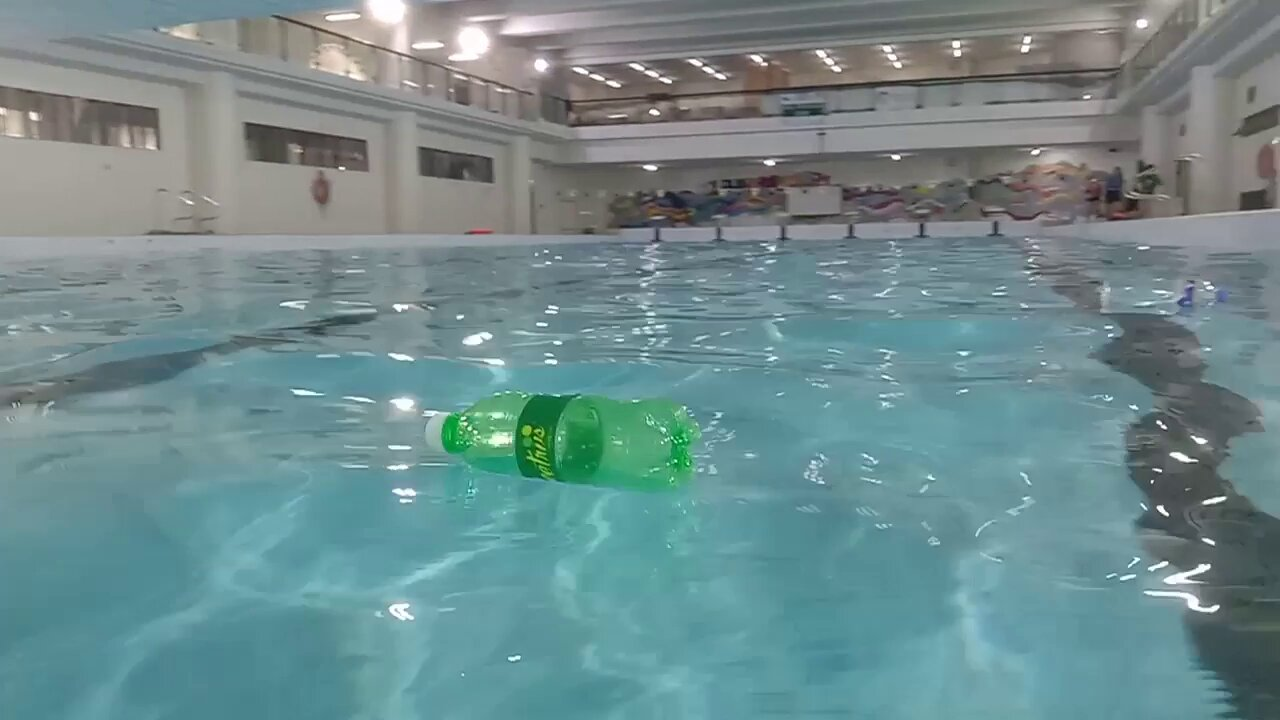plastic_bottle: (424, 393, 700, 483), (1098, 272, 1234, 318)
